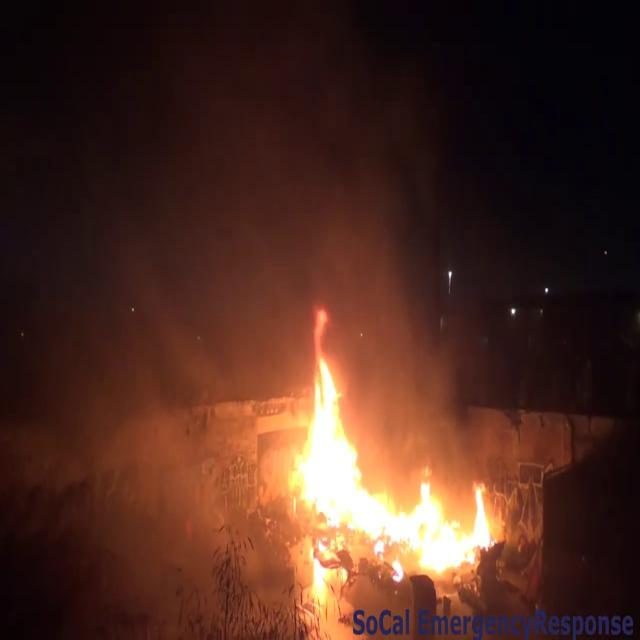Fire: (282, 315, 500, 584)
Smoke: (9, 2, 460, 482)
